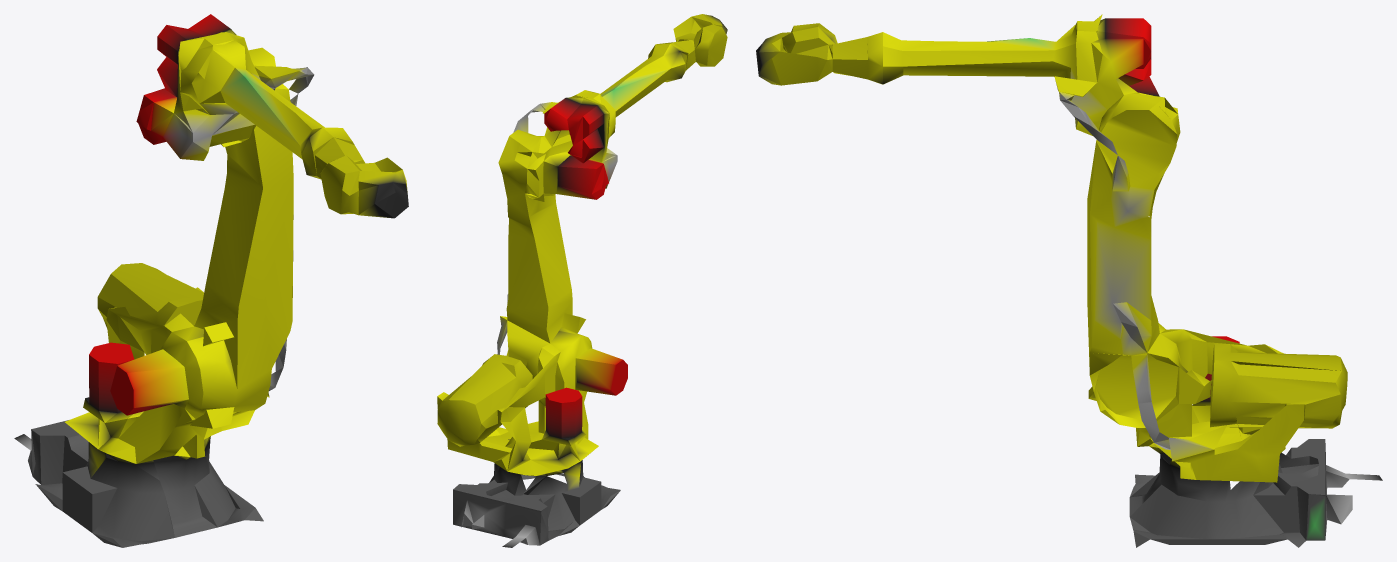
The model's file is fanuc-r2000ic-165f.l2.glb.
The picture shows the model from 3 angles, left to right: view 1: azimuth 30°, elevation 25°; view 2: azimuth 150°, elevation 25°; view 3: azimuth 270°, elevation 25°; orthographic projection. The views are drawn at different scales.
Parts seen in each view (by area): view 1: fanuc-r2000ic-165f__l2; view 2: fanuc-r2000ic-165f__l2; view 3: fanuc-r2000ic-165f__l2.
Part boxes in pixels (x1,y1,x2,y2): fanuc-r2000ic-165f__l2: (14, 14, 408, 547); fanuc-r2000ic-165f__l2: (437, 14, 727, 547); fanuc-r2000ic-165f__l2: (756, 14, 1382, 547).
Bounding box in the file's own units: 0.716 × 2.11 × 2.46.
